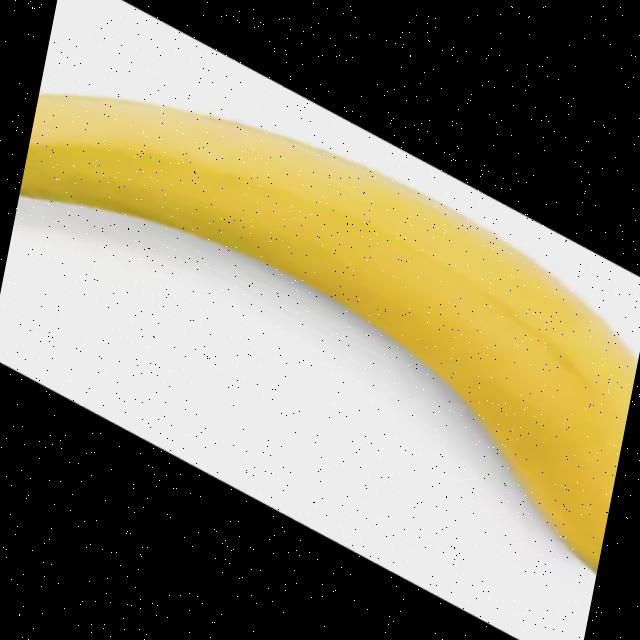Ripe: (0, 77, 640, 574)
